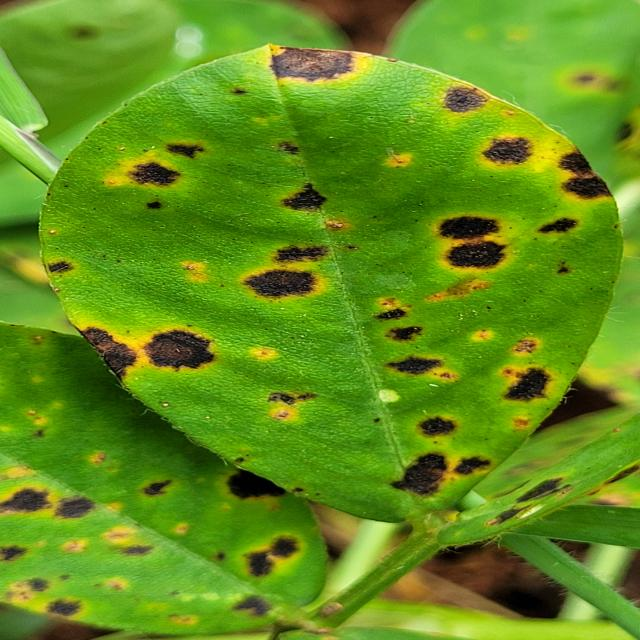Ground nut_tikka leaf spot: (43, 34, 621, 539)
